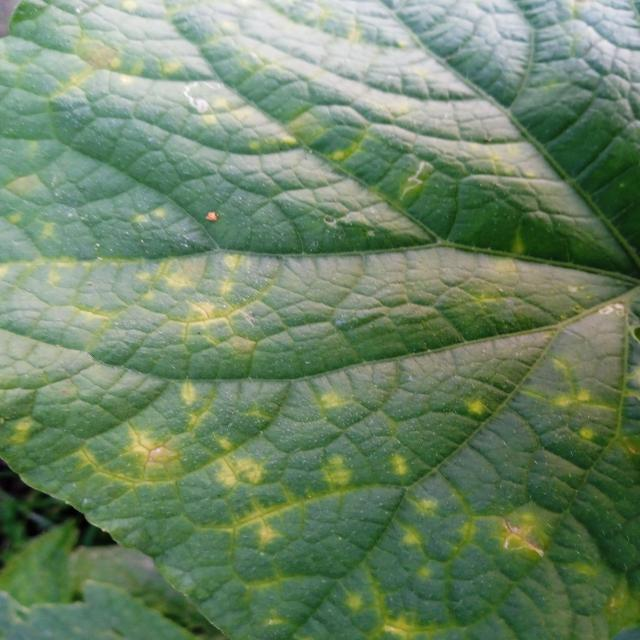cucumber_downy: (32, 18, 626, 640)
